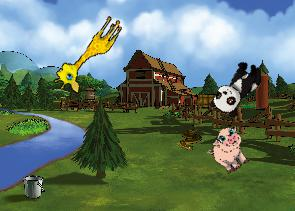giraffe: (49, 7, 126, 98)
panda: (207, 54, 267, 121)
pig: (202, 122, 257, 178)
